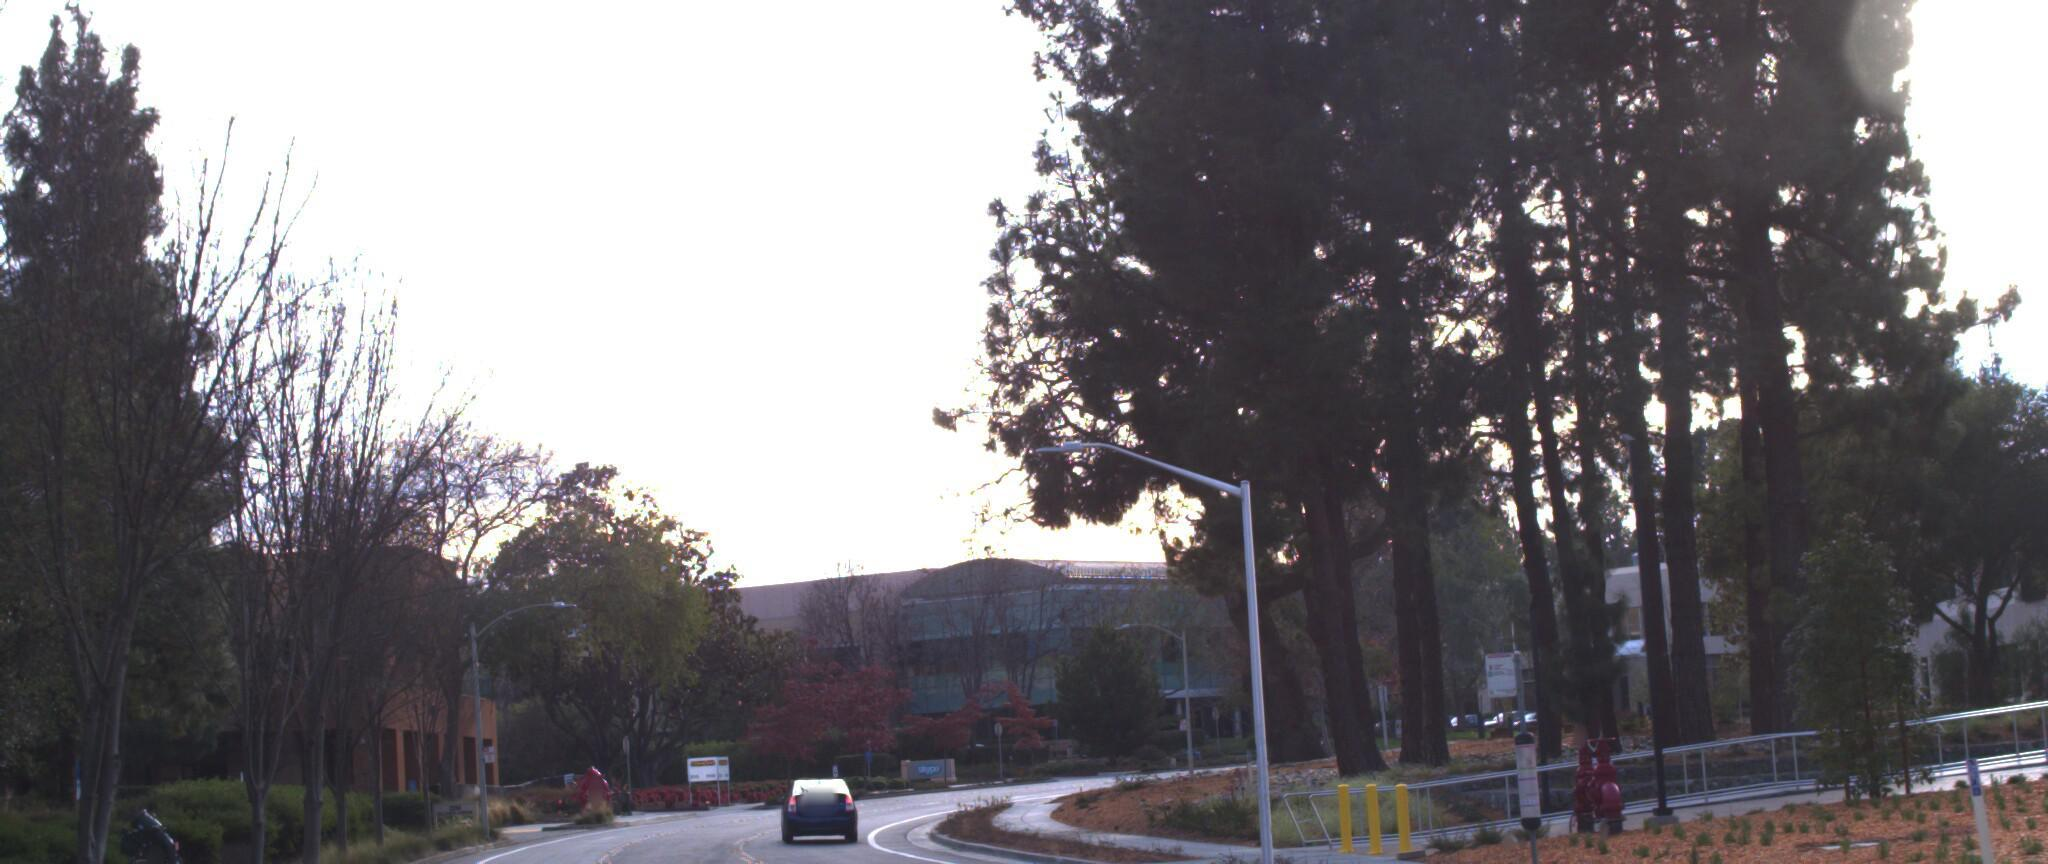car: (781, 767, 867, 850)
